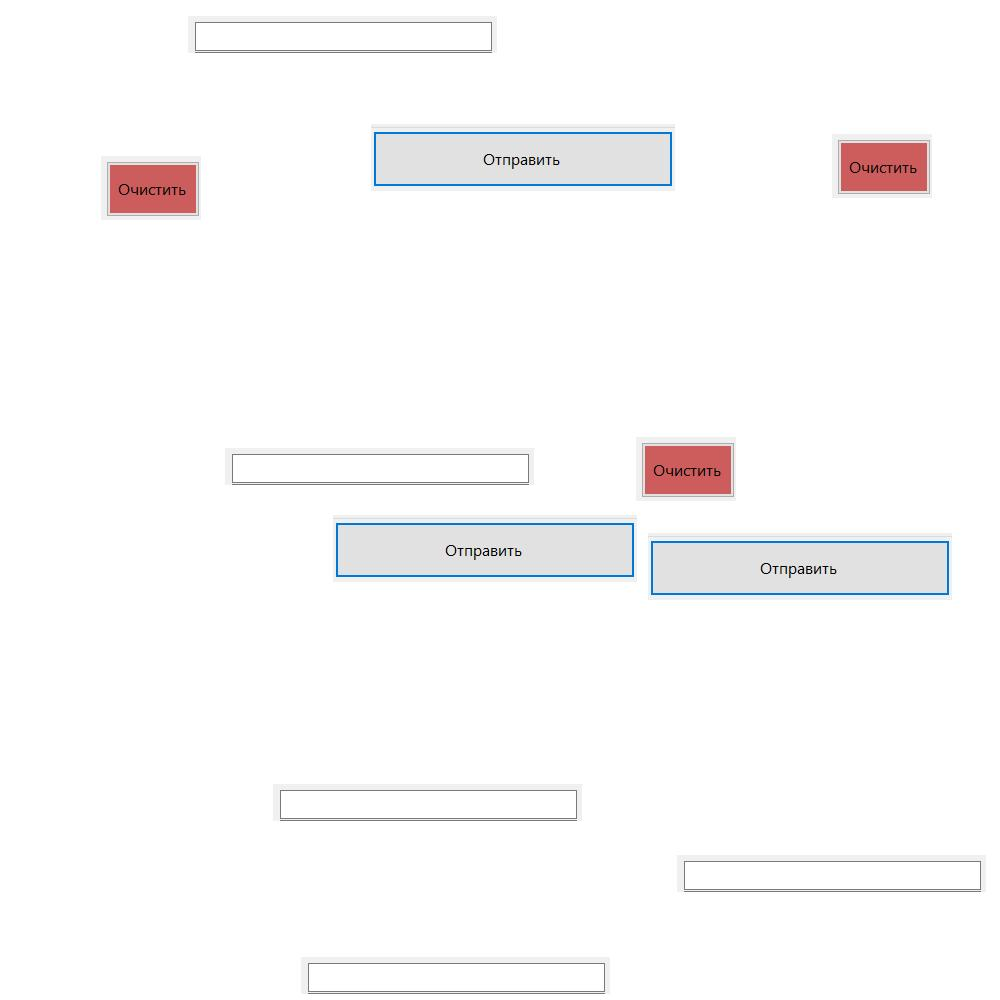Button: (371, 124, 675, 191), (333, 515, 637, 582), (648, 533, 952, 600), (636, 437, 736, 501), (832, 134, 932, 198), (101, 156, 201, 220)
EditText-: (677, 855, 986, 892), (188, 16, 497, 53), (273, 784, 582, 821), (225, 448, 534, 485), (301, 957, 610, 994)
